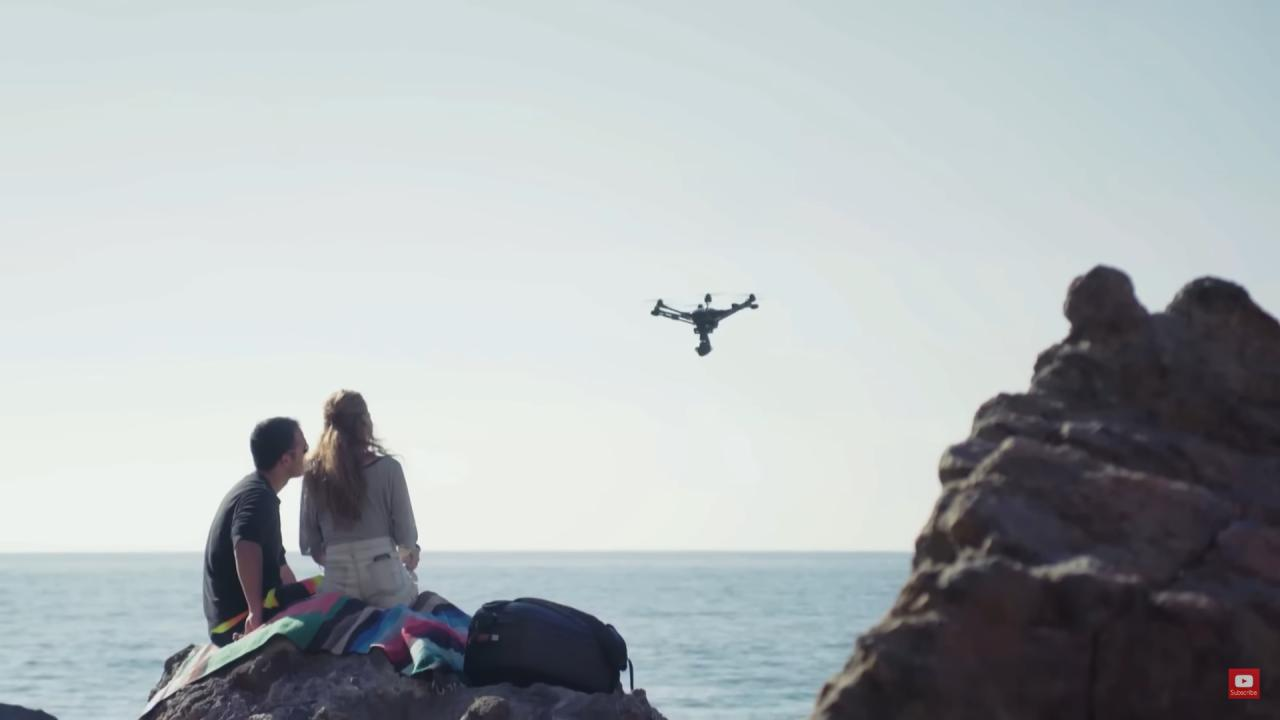Drone: (631, 282, 773, 365)
